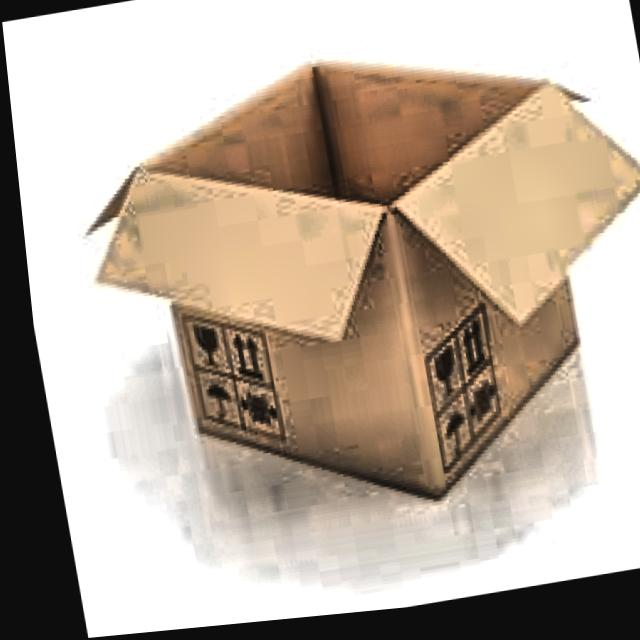Cardbox: (42, 0, 640, 551)
